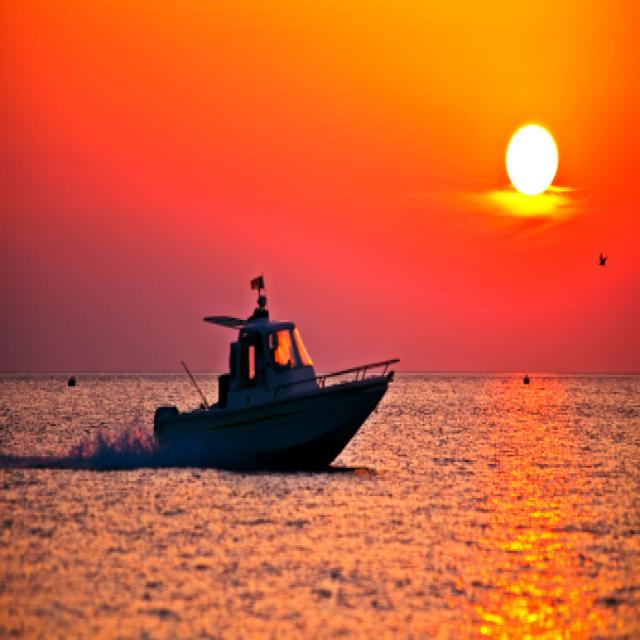Boat: (120, 248, 431, 513)
